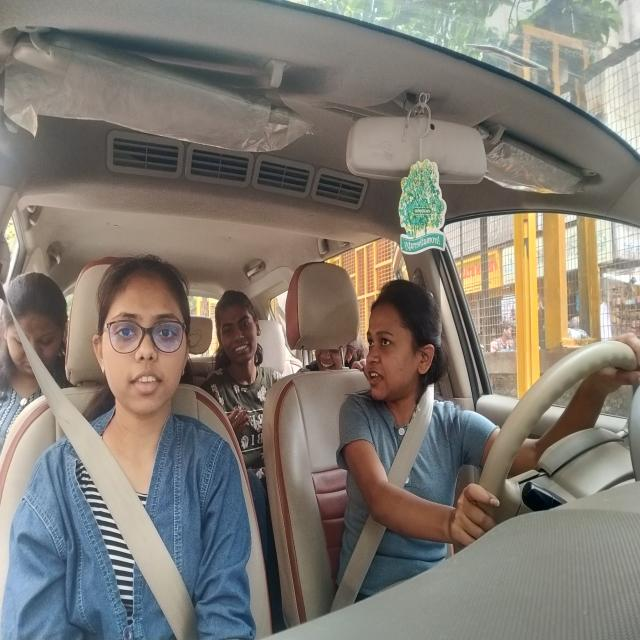LeftRight: (361, 281, 448, 409)
person: (90, 255, 188, 420), (0, 270, 65, 374), (213, 290, 264, 369), (316, 346, 356, 374)
talking: (366, 369, 389, 390)
